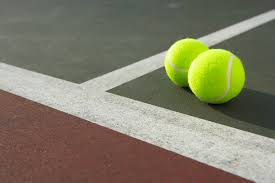tennis_ball: (187, 48, 246, 104), (163, 37, 210, 87)
